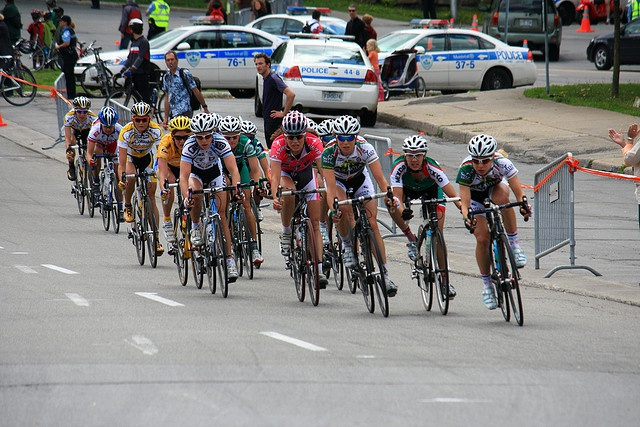non-vehicle: (331, 182, 394, 318), (467, 196, 531, 326), (402, 190, 461, 315), (188, 185, 236, 298), (277, 185, 324, 299), (164, 179, 204, 288), (122, 171, 156, 268), (227, 183, 256, 280), (65, 130, 95, 218), (91, 152, 120, 234), (82, 46, 112, 97), (323, 214, 343, 290), (0, 67, 37, 106)
